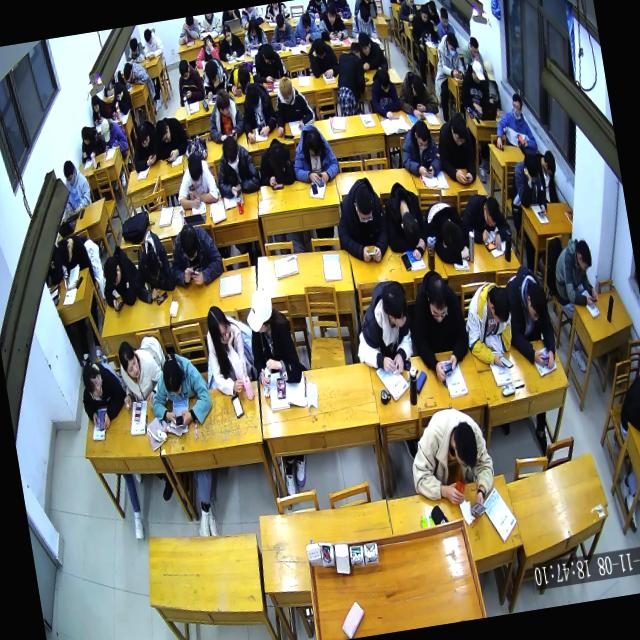bow: (498, 260, 562, 376), (144, 345, 218, 435), (378, 178, 432, 266), (125, 226, 178, 308), (76, 356, 132, 432), (460, 188, 514, 256), (422, 196, 472, 268), (96, 243, 144, 316), (172, 150, 222, 213), (394, 68, 440, 124), (254, 136, 296, 192), (153, 113, 193, 166), (127, 119, 162, 174), (305, 34, 341, 84), (198, 54, 232, 102), (224, 62, 256, 102), (104, 79, 134, 121), (290, 9, 322, 47), (192, 32, 222, 70), (121, 58, 151, 90), (175, 16, 202, 45), (125, 36, 146, 66), (424, 0, 441, 26)
down: (449, 419, 482, 474), (424, 271, 454, 326), (522, 281, 552, 327), (160, 356, 188, 402), (486, 284, 514, 328), (351, 186, 376, 227), (178, 222, 202, 263), (220, 135, 243, 173), (448, 112, 471, 150), (101, 255, 125, 291), (186, 152, 207, 192), (267, 140, 289, 178), (574, 238, 596, 275), (304, 127, 326, 163), (481, 195, 503, 230), (142, 248, 164, 282), (413, 119, 433, 153), (522, 152, 541, 186), (276, 76, 296, 108), (56, 237, 76, 268), (243, 81, 263, 112), (410, 73, 428, 103), (134, 122, 152, 152), (154, 117, 173, 145), (376, 66, 393, 96), (356, 31, 374, 58), (62, 158, 78, 188), (542, 148, 558, 178), (204, 59, 221, 86), (470, 58, 486, 86), (260, 42, 277, 68), (98, 117, 114, 144), (444, 31, 460, 58), (312, 36, 328, 62), (324, 1, 340, 27), (482, 58, 498, 84), (236, 66, 252, 88), (178, 58, 192, 82), (80, 124, 94, 147), (274, 12, 288, 34), (300, 12, 314, 34), (438, 8, 452, 30), (359, 5, 372, 28), (469, 36, 481, 60), (122, 61, 135, 82), (203, 35, 216, 56), (247, 17, 260, 38), (418, 3, 430, 25), (112, 81, 124, 102), (222, 24, 234, 45), (90, 94, 101, 116), (128, 36, 140, 56), (142, 28, 154, 46), (426, 0, 438, 17), (404, 0, 416, 9)
lookup: (510, 93, 525, 120)
sit: (402, 401, 502, 528), (403, 264, 474, 385), (346, 276, 420, 380), (241, 284, 304, 390), (458, 277, 520, 376), (330, 172, 393, 268), (200, 300, 252, 398), (165, 218, 225, 292), (115, 336, 168, 414), (548, 235, 600, 312), (432, 109, 481, 190), (287, 120, 342, 190), (210, 132, 262, 202), (487, 90, 539, 158), (268, 73, 318, 138), (396, 117, 444, 182), (236, 78, 280, 146), (310, 53, 354, 120), (510, 150, 550, 222), (203, 85, 246, 147), (58, 157, 96, 220), (366, 64, 404, 124), (455, 58, 491, 118), (248, 40, 288, 87), (54, 229, 92, 278), (613, 372, 640, 438), (434, 30, 466, 84), (534, 147, 563, 205), (174, 57, 206, 109), (356, 28, 390, 76), (314, 0, 350, 45), (408, 1, 437, 49), (267, 10, 298, 53), (214, 22, 247, 62), (480, 58, 504, 113), (97, 114, 128, 155), (347, 2, 378, 42), (76, 122, 104, 164), (240, 15, 270, 52), (140, 25, 166, 61), (460, 34, 484, 70), (433, 5, 457, 40), (89, 92, 112, 126), (395, 0, 420, 24)
